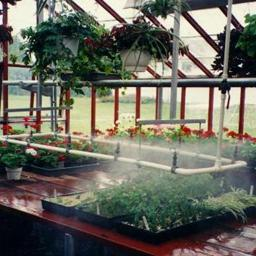Matera: (39, 20, 110, 81), (107, 25, 185, 73), (4, 151, 26, 183)
